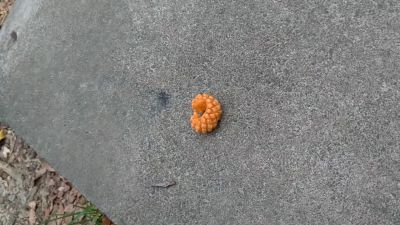eggs: (189, 91, 223, 138)
